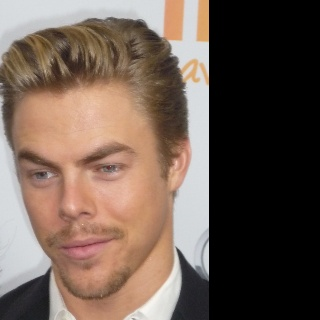without_mask: (12, 87, 166, 297)
